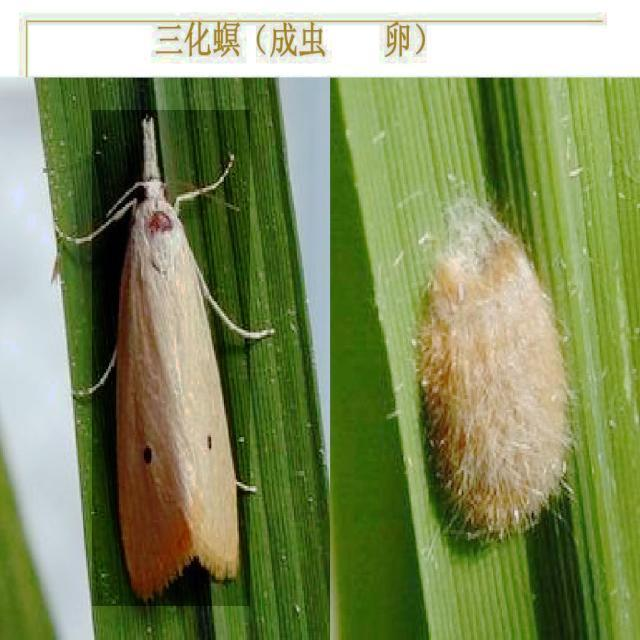stem-borer: (92, 110, 250, 606)
